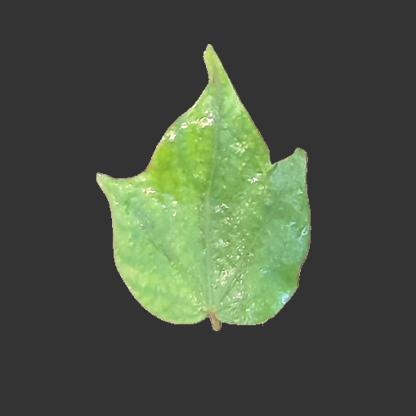curl_stage1: (122, 234, 194, 302), (153, 129, 215, 201)
healthy: (199, 202, 300, 292)
